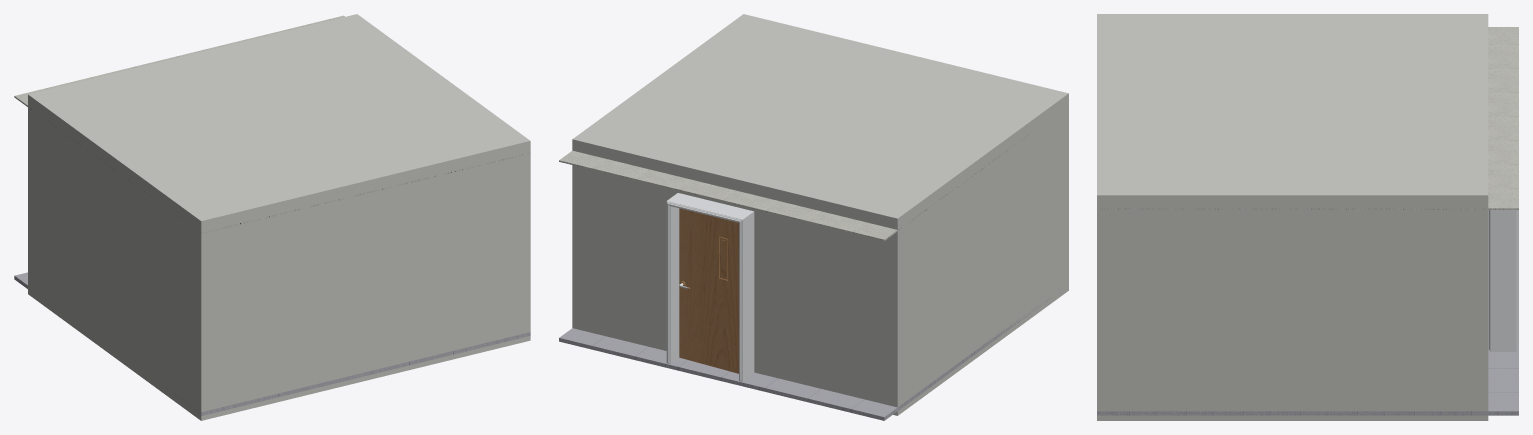
File: infinigen-inpatient-ward.glb
The picture shows the model from 3 angles, left to right: view 1: azimuth 30°, elevation 25°; view 2: azimuth 150°, elevation 25°; view 3: azimuth 270°, elevation 25°; orthographic projection. The views are drawn at different scales.
Visible parts, largest first — view 1: bedroom_0/0.exterior, openclinxr_ceiling_tiles, openclinxr_floor_field; view 2: bedroom_0/0.exterior, bedroom_0/0.door_leaf, bedroom_0/0.door_casing, openclinxr_floor_field, openclinxr_ceiling_tiles; view 3: bedroom_0/0.exterior, openclinxr_ceiling_tiles, bedroom_0/0.door_casing, openclinxr_floor_field.
Part boxes in pixels (bbox=[...]): bedroom_0/0.exterior: bbox=[28, 14, 530, 420]; openclinxr_ceiling_tiles: bbox=[14, 15, 530, 233]; openclinxr_floor_field: bbox=[14, 272, 530, 415]; bedroom_0/0.exterior: bbox=[572, 14, 1068, 415]; bedroom_0/0.door_leaf: bbox=[679, 208, 738, 373]; bedroom_0/0.door_casing: bbox=[666, 193, 754, 381]; openclinxr_floor_field: bbox=[559, 289, 1059, 420]; openclinxr_ceiling_tiles: bbox=[559, 132, 1032, 240]; bedroom_0/0.exterior: bbox=[1097, 14, 1488, 420]; openclinxr_ceiling_tiles: bbox=[1097, 27, 1518, 209]; bedroom_0/0.door_casing: bbox=[1488, 210, 1518, 351]; openclinxr_floor_field: bbox=[1097, 349, 1518, 415].
Size of the model in its own units: 4.52 by 2.62 by 4.44.
Materials: 18 (10 with a texture image).
